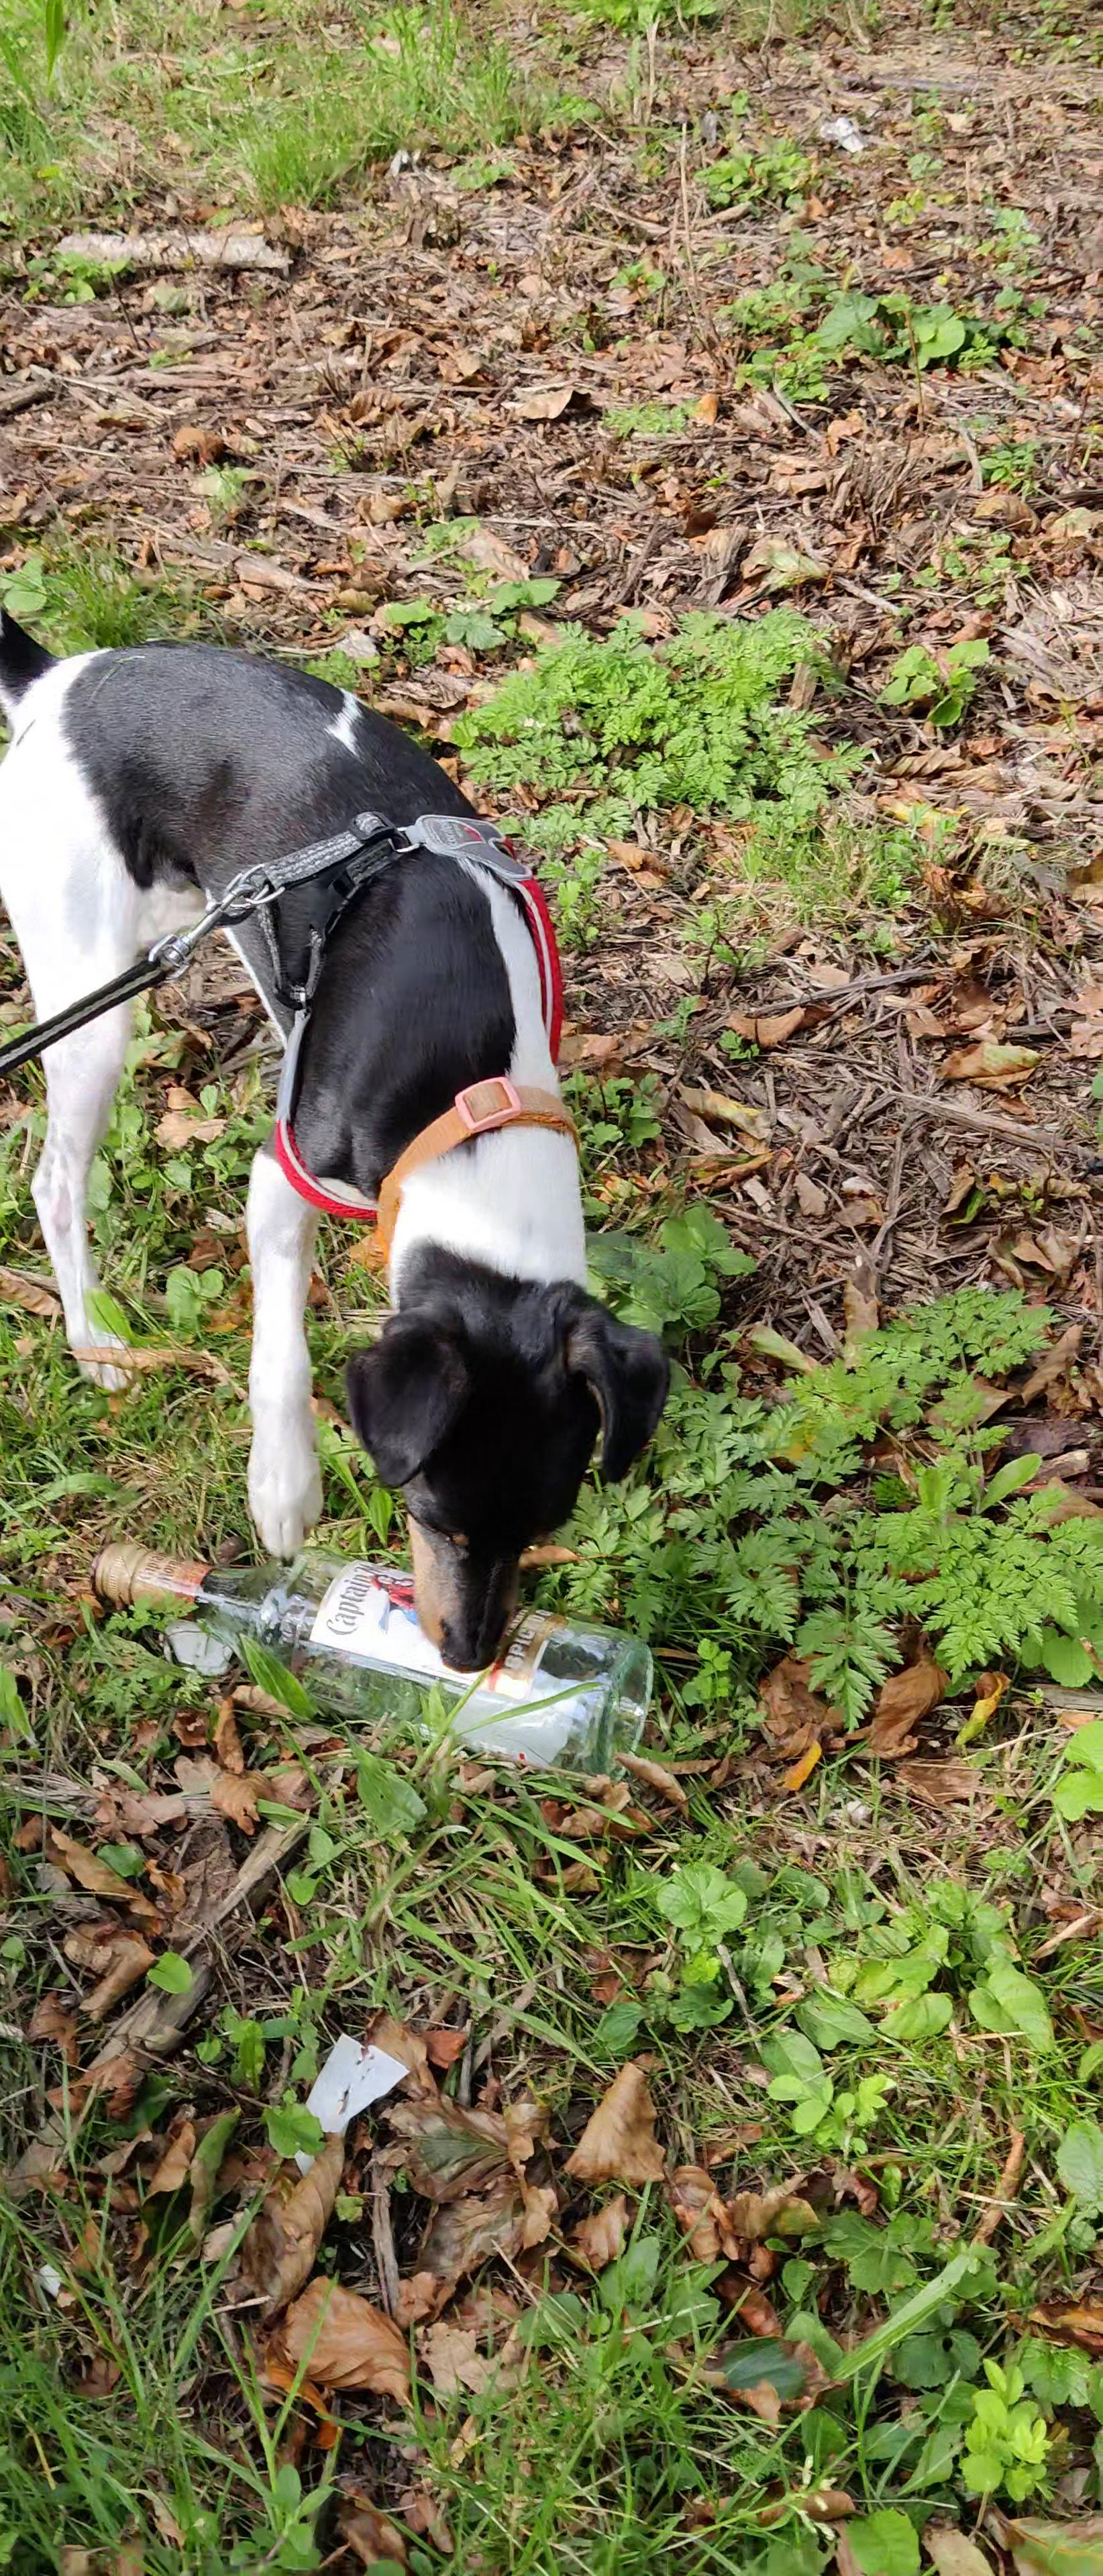Dog: (0, 577, 679, 1699)
